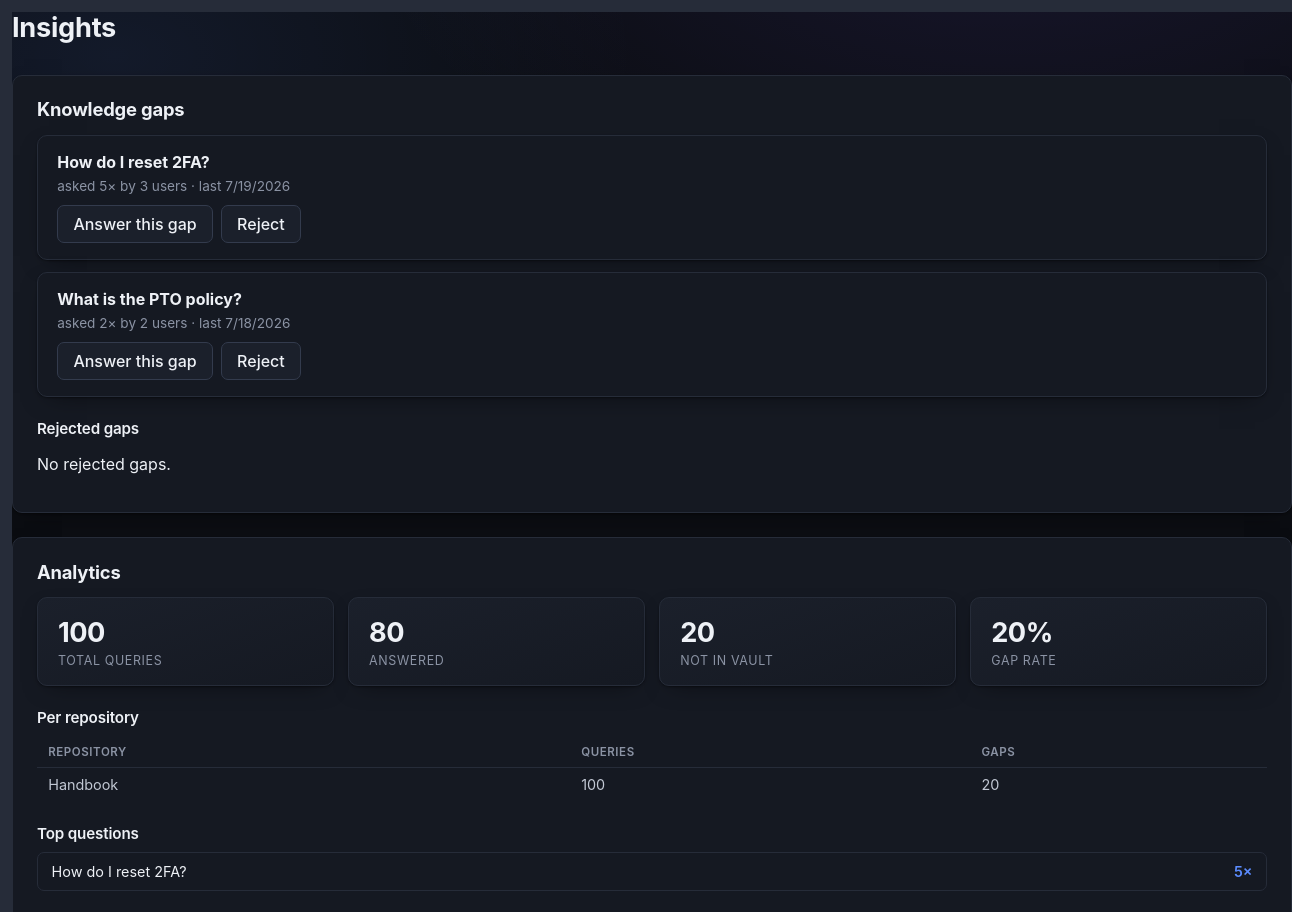
AdminInsightsPage › answers a gap by writing an Admin Note prefilled with the question
The image size is (1292, 912).
Click the button "Answer this gap" below "asked 5× by 3 users · last 7/19/2026".
click(135, 224)  # box [57,206,213,244]
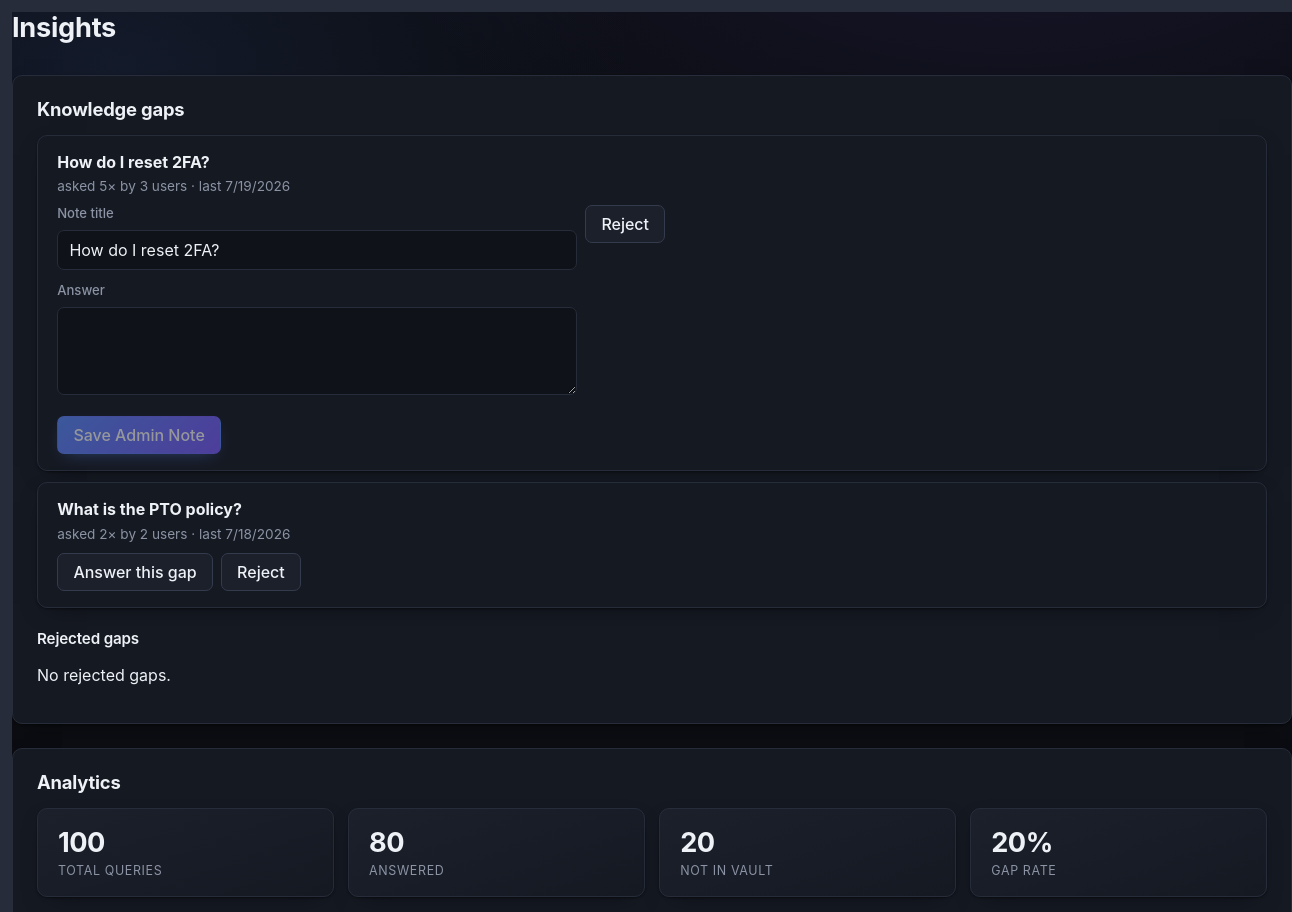
Now the field labelled "Note title" holds "How do I reset 2FA?", box [57,230,577,270]
Type "Go to Settings → Security." into the text box labelled "Answer".
click(317, 351); type("Go to Settings → Security.")  # box [57,307,577,395]
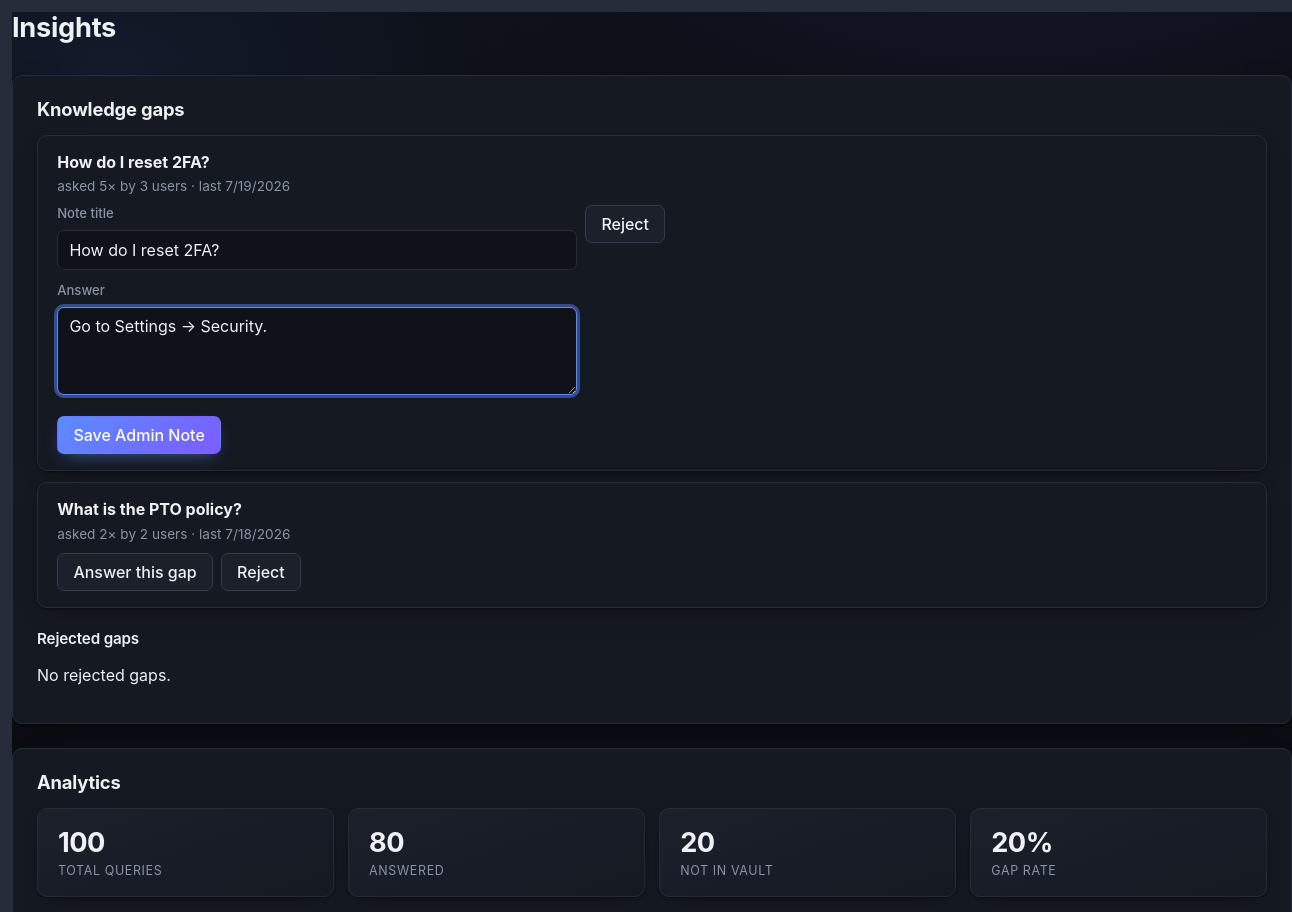
Click the button "Save Admin Note".
click(139, 435)  # box [57,416,221,454]
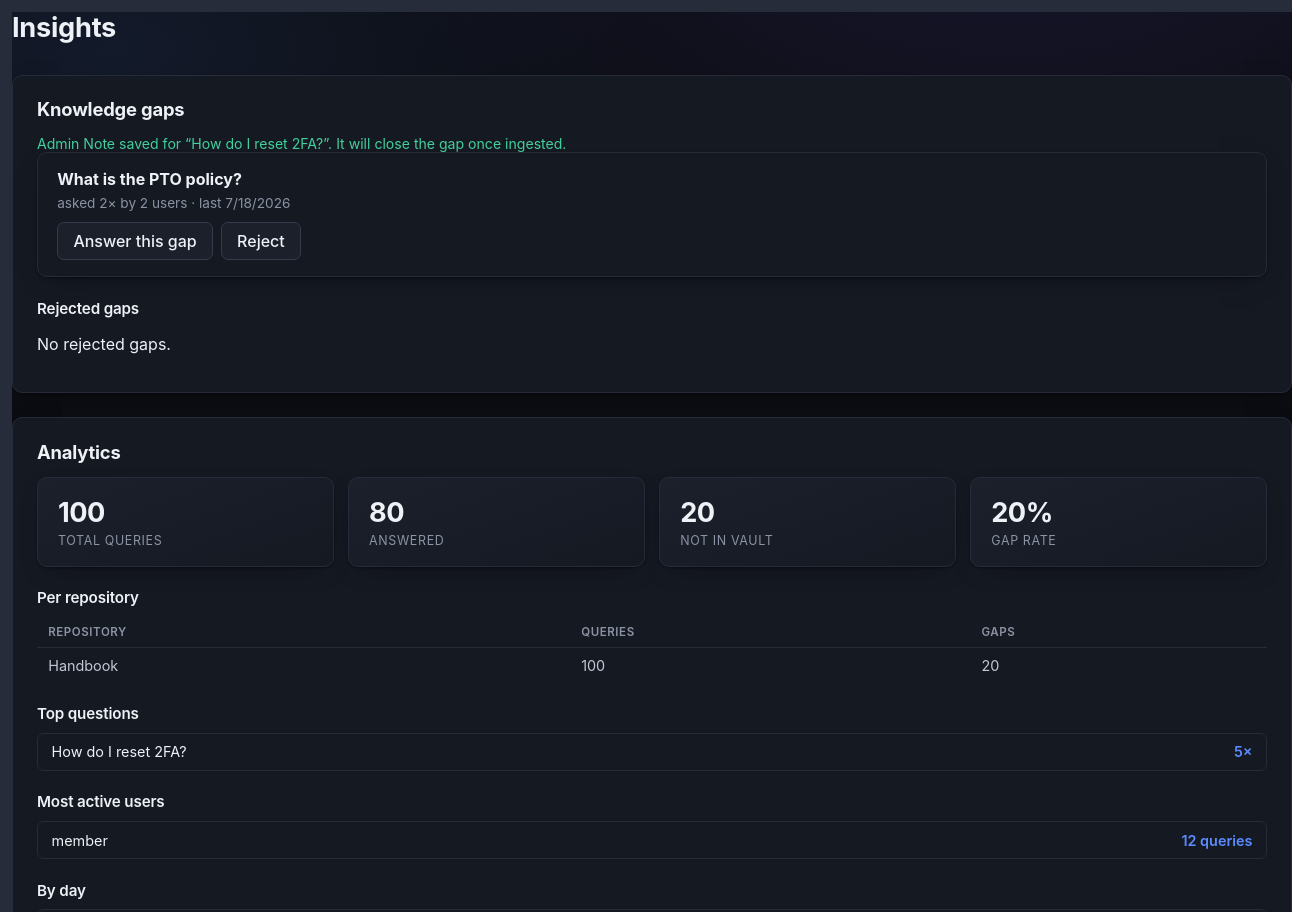
Now the text "saved" is shown, box [37,135,566,152]
